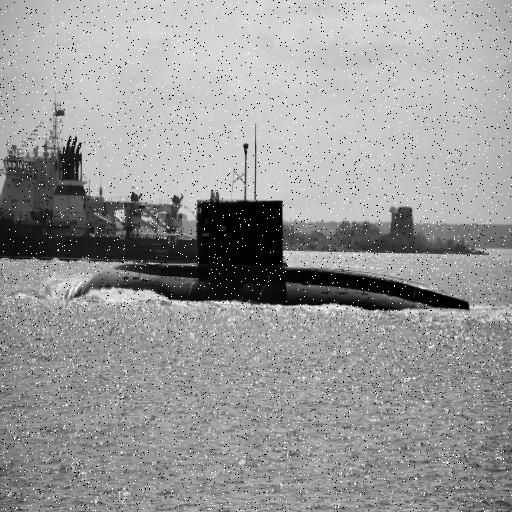submarine: (60, 184, 484, 322)
